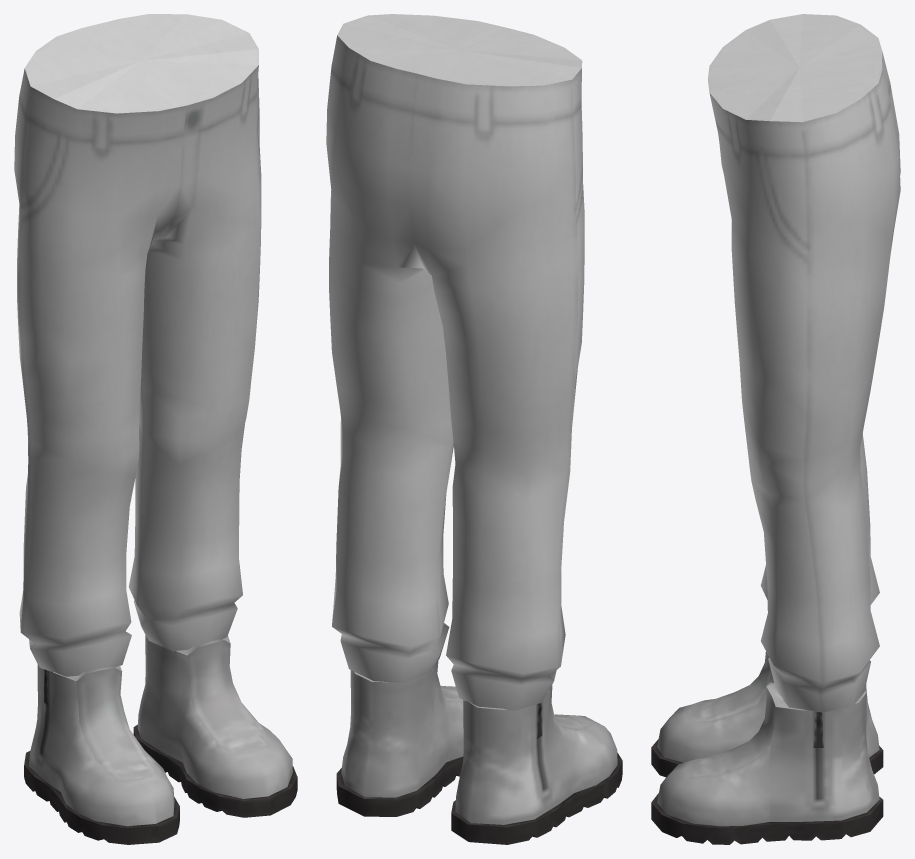
Rendered from tr0720_00_lwb03.gltf.
3 views of the same model, side by side, from view 1: azimuth 30°, elevation 25°; view 2: azimuth 150°, elevation 25°; view 3: azimuth 270°, elevation 25° (orthographic). The views are drawn at different scales.
Visible parts, largest first — view 1: lwb03_lowerbody_mesh_shape:lowerbody03, lwb03_shoes_mesh_shape:lowerbody03; view 2: lwb03_lowerbody_mesh_shape:lowerbody03, lwb03_shoes_mesh_shape:lowerbody03; view 3: lwb03_lowerbody_mesh_shape:lowerbody03, lwb03_shoes_mesh_shape:lowerbody03.
Part boxes in pixels (x1,y1,x2,y2): lwb03_lowerbody_mesh_shape:lowerbody03: (14,14,261,676); lwb03_shoes_mesh_shape:lowerbody03: (24,635,297,844); lwb03_lowerbody_mesh_shape:lowerbody03: (326,14,584,710); lwb03_shoes_mesh_shape:lowerbody03: (336,661,622,844); lwb03_lowerbody_mesh_shape:lowerbody03: (707,14,900,712); lwb03_shoes_mesh_shape:lowerbody03: (651,651,883,844).
Size of what is drawn, in the model's own units: 0.3355 by 0.9787 by 0.3023.
Materials: 1 (1 with a texture image).
